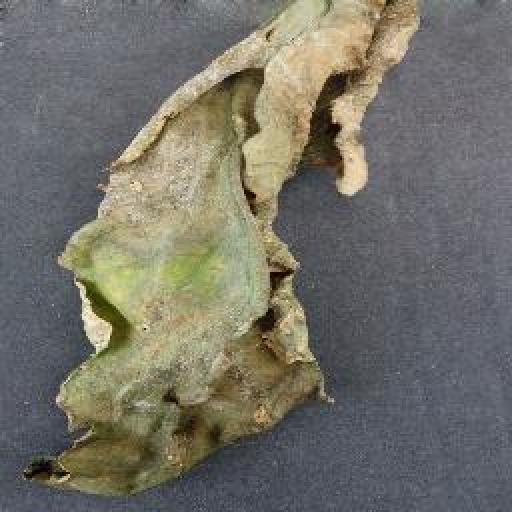disease_tomato: (28, 0, 421, 495)
